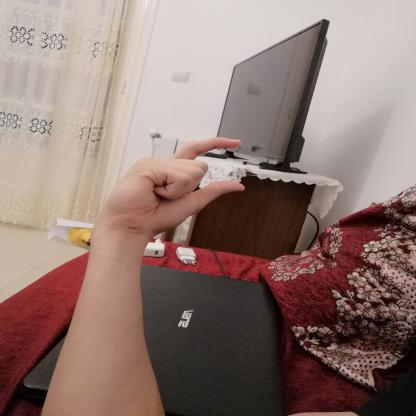DELL: (87, 128, 260, 246)
